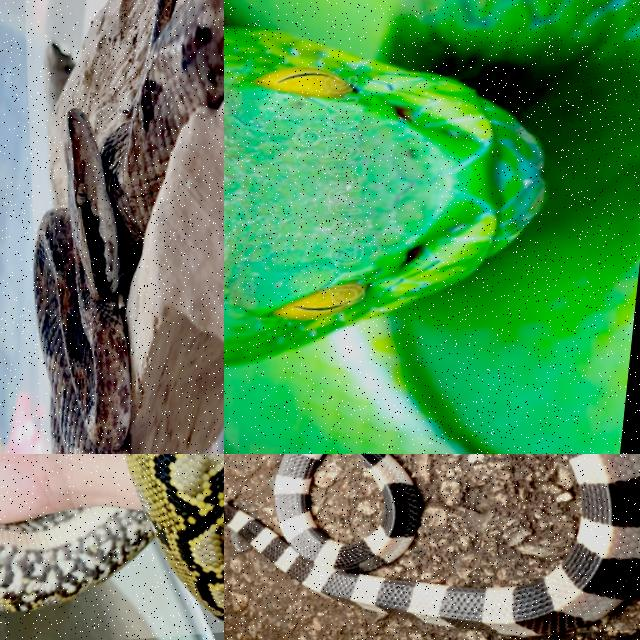Bungarus fasciatus: (224, 454, 639, 635)
Calloselasma rhodostoma: (34, 0, 223, 453)
Malayopython reticulatus: (0, 454, 223, 619)
Trimeresurus macrops: (224, 0, 639, 453)
snake: (224, 0, 639, 453), (34, 0, 223, 453), (224, 454, 639, 635), (0, 454, 223, 619)
